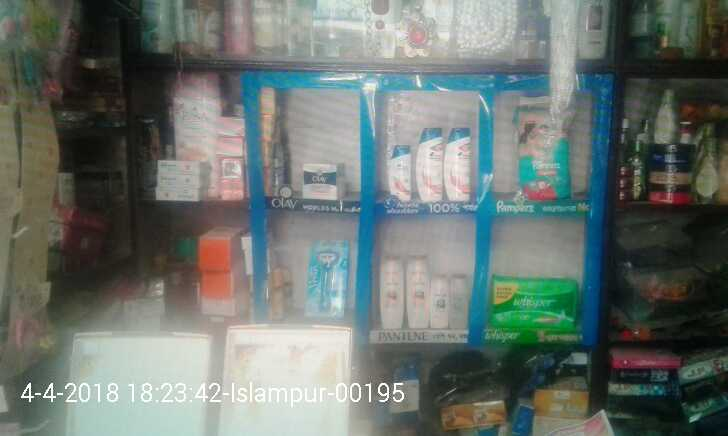venus: (304, 240, 349, 316)
